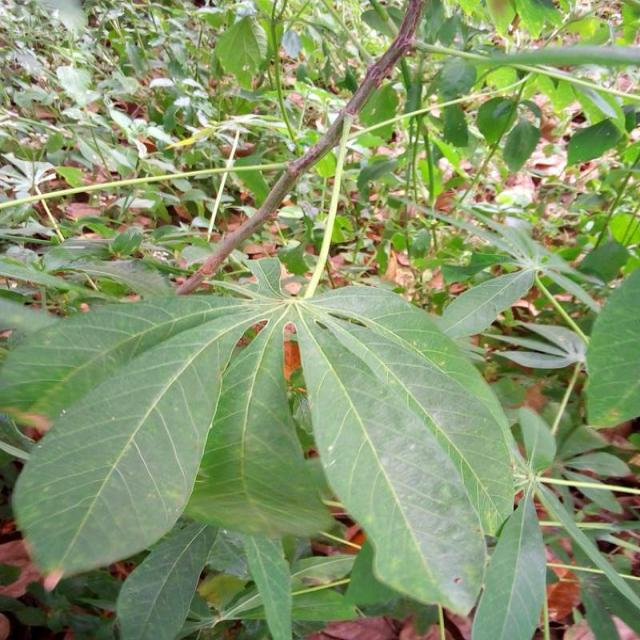cassava leaf: (3, 256, 524, 628), (6, 290, 270, 586), (294, 282, 518, 618)
